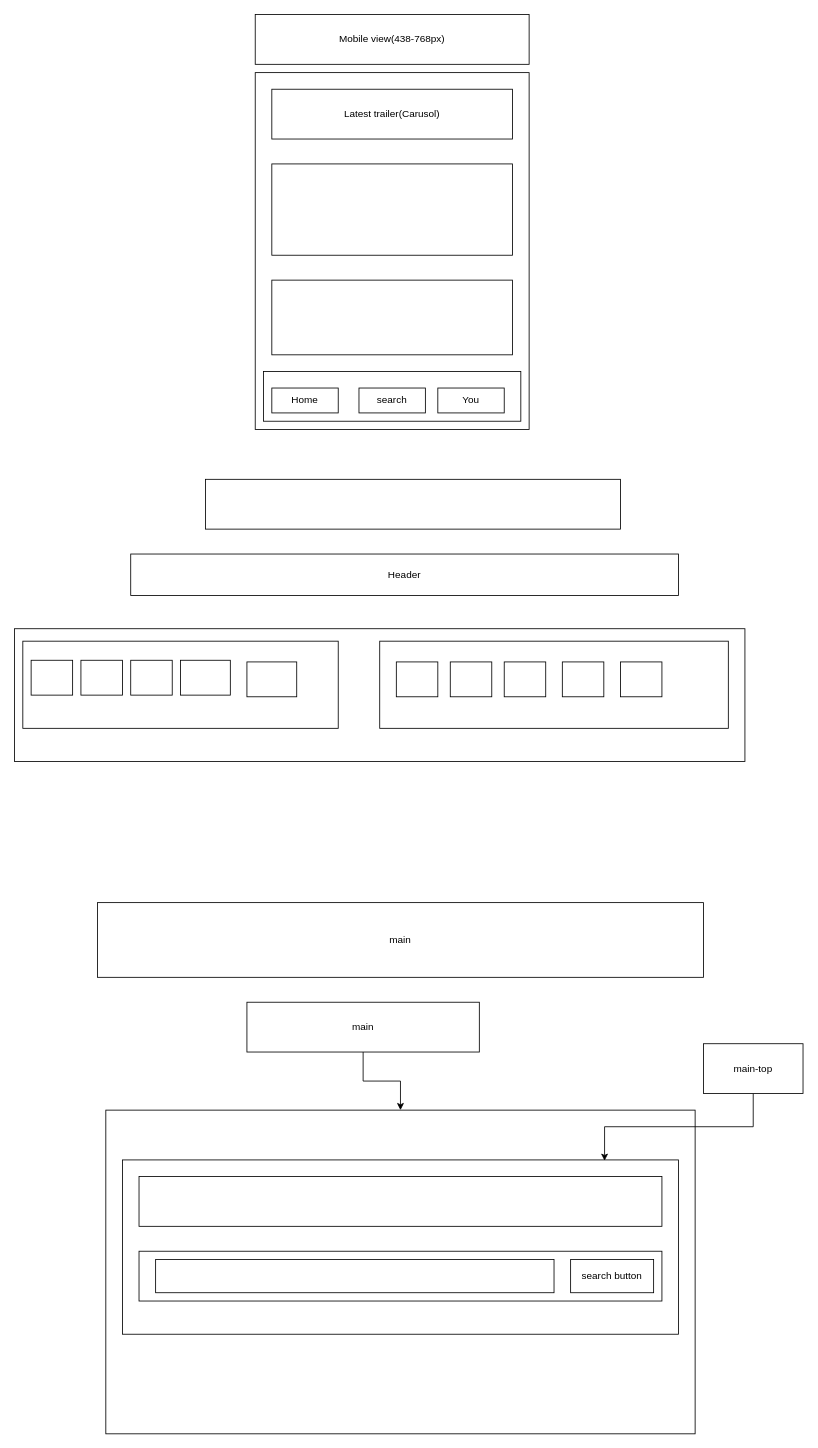
Some shapes in this 818 by 1448 pixel diagram are drawn without their labels. The shapes that lost their labels are listed below. From the top down, each one's centre as x and y in pixels, then its label:
At (392,209): "Popular Movies(carusol)".
At (392,317): "Popular tv series(carusol)".
At (412,503): "desktop view".
At (400,1201): "text".
At (354,1276): "input type =search".
